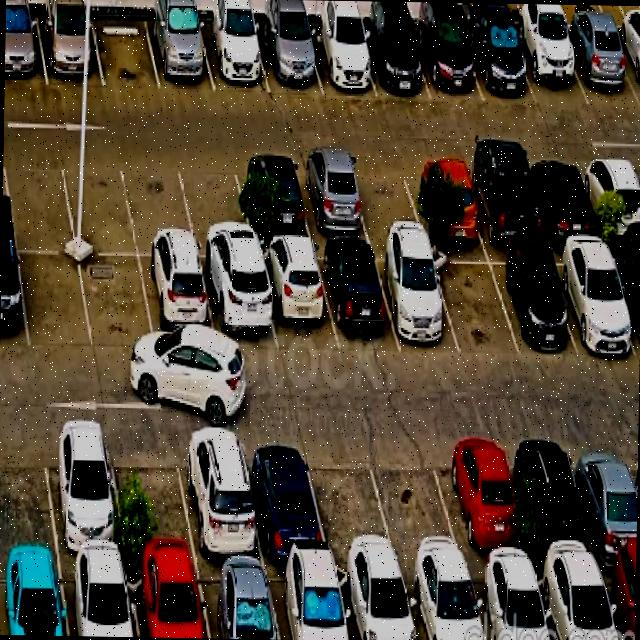empty: (366, 433, 466, 565), (303, 434, 397, 564), (107, 427, 196, 561), (429, 249, 518, 354), (176, 155, 254, 258), (59, 153, 137, 255), (0, 425, 57, 557), (122, 155, 196, 255), (79, 255, 155, 352), (3, 151, 75, 251), (18, 252, 92, 349), (347, 156, 424, 237), (91, 15, 160, 89)
occupied: (435, 433, 528, 567), (175, 426, 263, 562), (239, 430, 328, 560), (512, 432, 598, 566), (41, 424, 125, 558), (547, 244, 638, 353), (372, 246, 459, 353), (486, 249, 575, 353), (568, 433, 637, 564), (256, 244, 338, 353), (315, 245, 399, 349), (139, 257, 217, 350), (199, 260, 277, 352), (462, 158, 544, 242), (233, 156, 311, 240), (405, 158, 484, 240), (558, 27, 640, 106), (194, 563, 279, 639), (293, 156, 370, 238), (533, 565, 617, 640), (126, 562, 208, 638), (265, 565, 348, 640), (510, 27, 588, 106), (467, 566, 550, 640), (335, 565, 416, 640), (401, 567, 484, 640), (60, 559, 137, 637), (524, 157, 599, 237), (463, 23, 536, 103), (412, 22, 483, 100), (357, 25, 430, 98), (197, 19, 269, 92), (145, 17, 214, 92), (0, 560, 68, 636), (304, 25, 376, 96), (578, 156, 640, 237), (36, 15, 103, 86), (255, 24, 321, 92), (606, 243, 640, 356), (4, 14, 47, 84), (598, 564, 636, 640), (0, 247, 28, 349), (611, 30, 640, 104)
